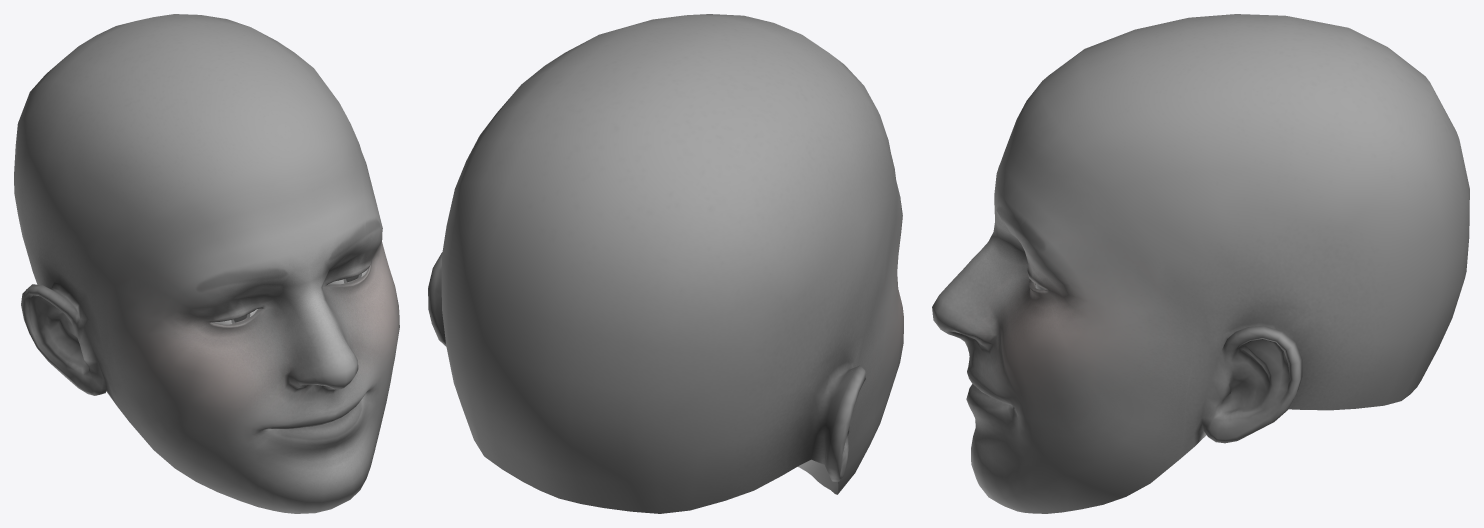
The model's file is FaceCap.glb.
3 renders of one model, left to right at view 1: azimuth 30°, elevation 25°; view 2: azimuth 150°, elevation 25°; view 3: azimuth 270°, elevation 25°, orthographic. The views are drawn at different scales.
Visible parts, largest first — view 1: head; view 2: head; view 3: head.
Boxes of the visible parts, x1,y1,x2,y2 form: head: [14, 14, 399, 513]; head: [428, 14, 903, 513]; head: [932, 14, 1469, 513].
Size of the model in its own units: 0.1898 by 0.2235 by 0.2391.
1 material, 1 textured.
